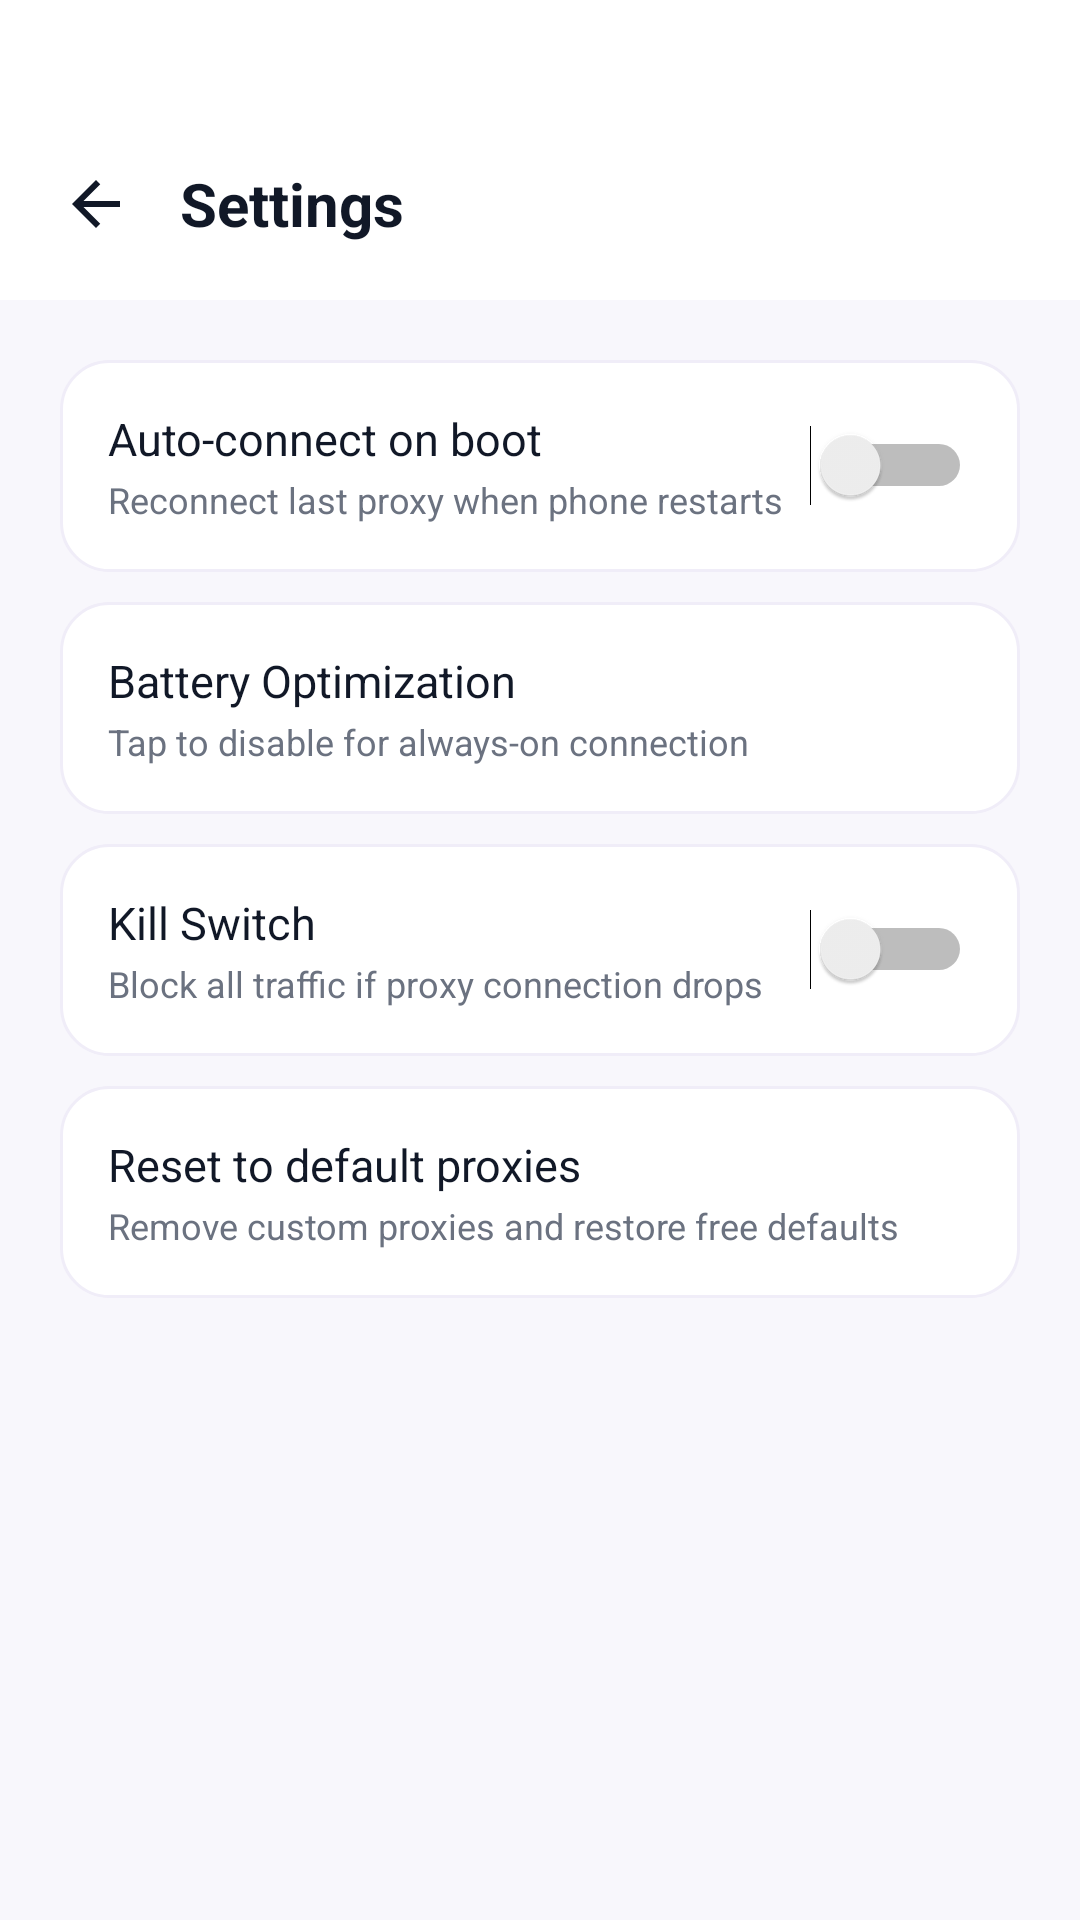

Icons on this 1080px x 1920px Android screen, each with its box as (x1, y1, x2, y2):
Back: (72, 180, 120, 228)
